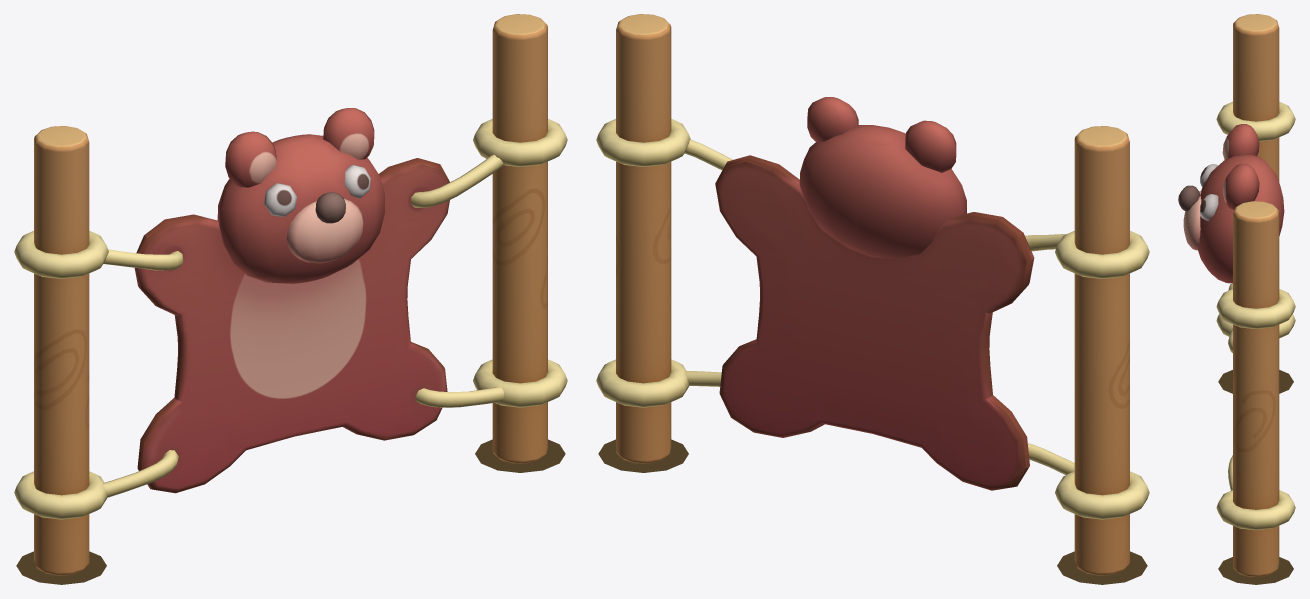
The model's file is Bear.fbx.
The picture shows the model from 3 angles, left to right: view 1: azimuth 30°, elevation 25°; view 2: azimuth 150°, elevation 25°; view 3: azimuth 270°, elevation 25°; orthographic projection. The views are drawn at different scales.
Parts seen in each view (by area): view 1: polySurface13, polySurface19, polySurface15, polySurface1; view 2: polySurface13, polySurface15, polySurface19, polySurface1; view 3: polySurface15, polySurface13, polySurface19, polySurface1.
Part boxes in pixels (x1,y1,x2,y2): polySurface13: [14, 108, 567, 519]; polySurface19: [34, 126, 89, 575]; polySurface15: [492, 14, 547, 463]; polySurface1: [16, 439, 565, 584]; polySurface13: [596, 97, 1149, 519]; polySurface15: [616, 14, 671, 463]; polySurface19: [1074, 126, 1129, 575]; polySurface1: [598, 439, 1147, 584]; polySurface15: [1233, 201, 1279, 577]; polySurface13: [1178, 101, 1295, 530]; polySurface19: [1233, 14, 1279, 181]; polySurface1: [1218, 370, 1293, 584].
Size of the model in its own units: 376 by 286 by 84.72.
